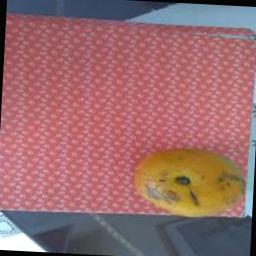Orange Unripe: (133, 136, 254, 228)
